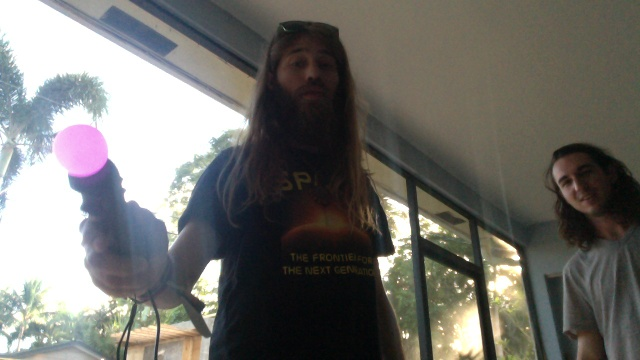wand: (56, 125, 109, 177)
